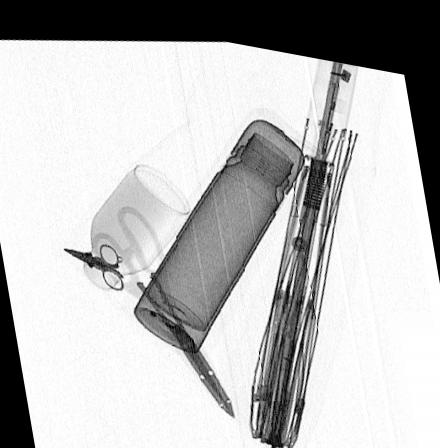Scissors: (89, 199, 236, 412), (59, 238, 124, 286)
